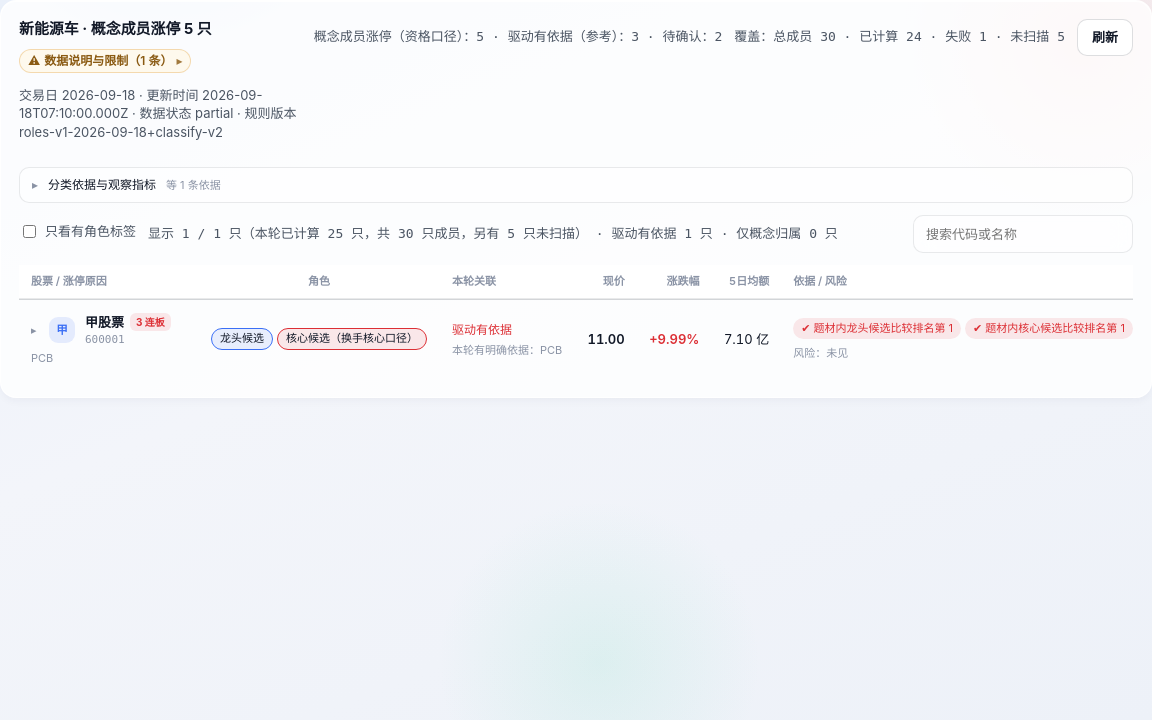
it: ThemeDetail › 分类依据与观察指标默认折叠，点开才显示
The image size is (1152, 720).
Expected: the text "甲股票" is shown, [85, 314, 124, 330]
Click the heading with class "theme-detail__classification-summary": (134, 185) [48, 177, 221, 192]
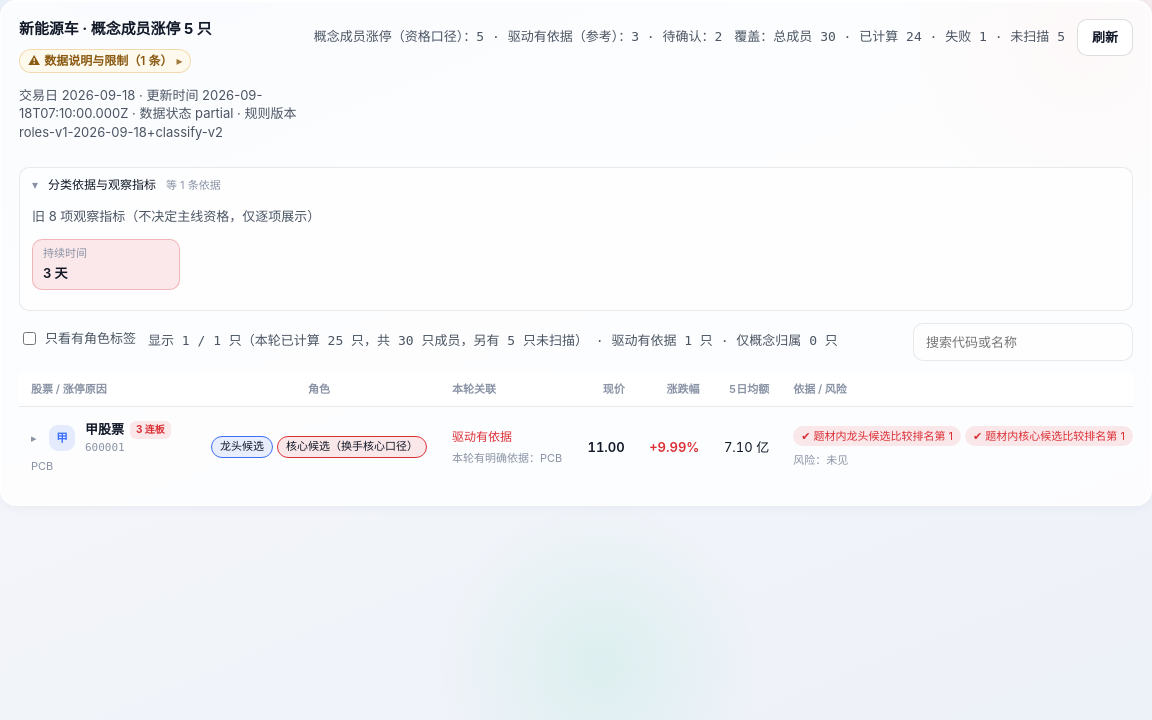
Expected: the number of list items with class "theme-detail__metric" is 1, [32, 239, 180, 290]
